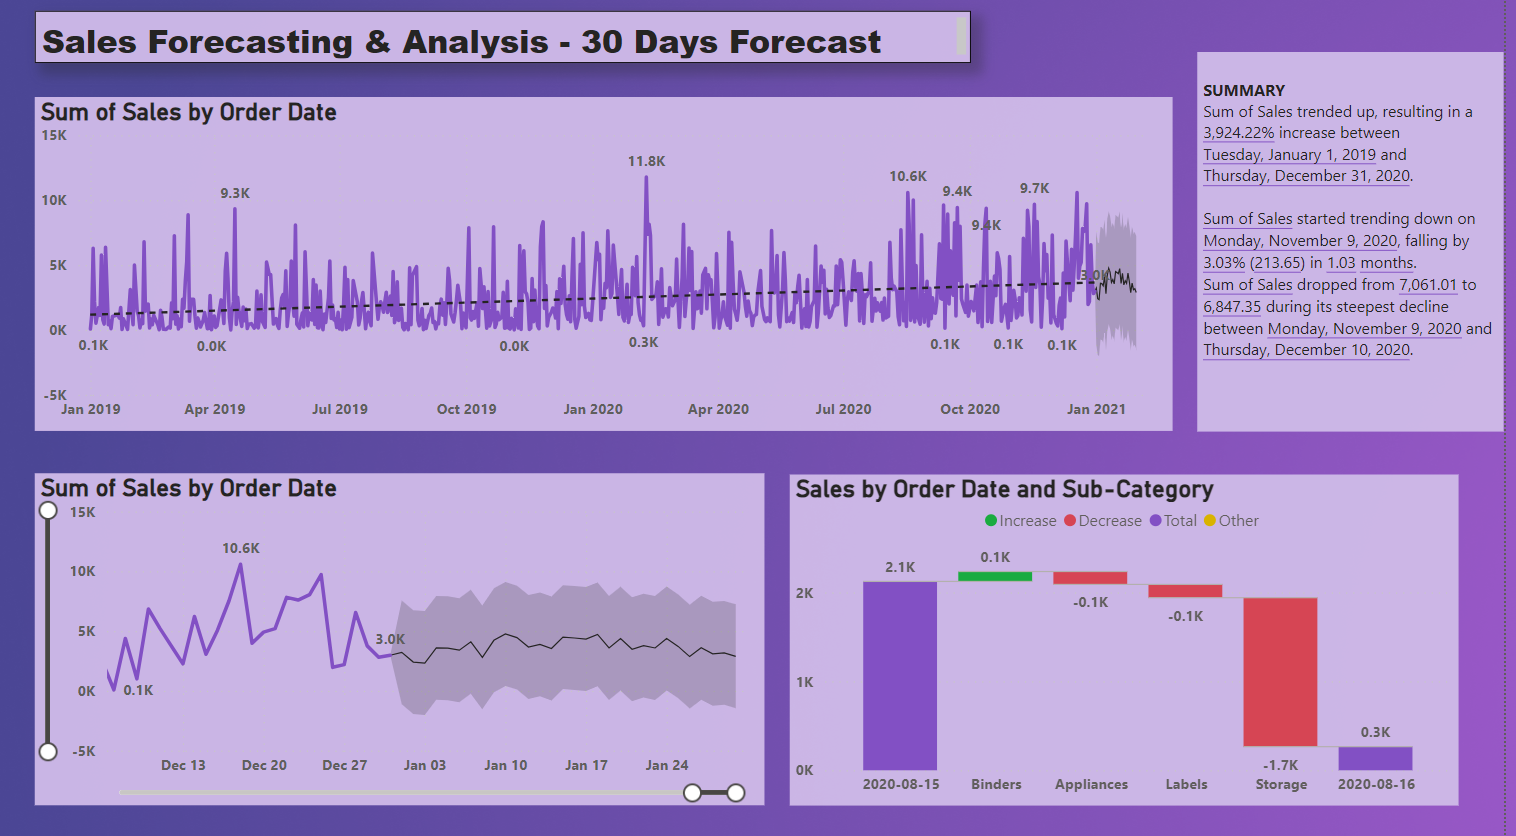

The page's visual inventory and layout, read from the dashboard file:
{"tool":"powerbi","page":{"name":"Sales Forecasting","canvas":[1280,720],"ordinal":2},"visuals":[{"type":"lineChart","fields":{"Y":["Sum(SuperStore_Sales_Dataset.Sales)"],"Category":["SuperStore_Sales_Dataset.Order Date"]},"box":[45.5,88.7,956.4,280.4],"z":0},{"type":"lineChart","fields":{"Y":["Sum(SuperStore_Sales_Dataset.Sales)"],"Category":["SuperStore_Sales_Dataset.Order Date"]},"box":[45.5,405.1,613.6,279.3],"z":1},{"type":"waterfallChart","title":"Sales by Order Date and Sub-Category","fields":{"Category":["SuperStore_Sales_Dataset.Order Date"],"Y":["Sum(SuperStore_Sales_Dataset.Sales)"],"Breakdown":["SuperStore_Sales_Dataset.Sub-Category"]},"box":[679.5,405.4,562.7,278.5],"z":1},{"type":"textbox","box":[1022.3,50.3,257.7,318.8],"z":2},{"type":"textbox","box":[45.5,15.6,787.4,44.3],"z":3}]}

Visuals, with their boxes in screenshot pixels (x1, y1, x2, y2), scaled from the page's 1280x720 canvas onto the 1516x836 screenshot:
lineChart - Sum(SuperStore_Sales_Dataset.Sales) x SuperStore_Sales_Dataset.Order Date: bbox=(54, 103, 1187, 429)
lineChart - Sum(SuperStore_Sales_Dataset.Sales) x SuperStore_Sales_Dataset.Order Date: bbox=(54, 470, 781, 795)
"Sales by Order Date and Sub-Category" waterfallChart: bbox=(805, 471, 1471, 794)
textbox: bbox=(1211, 58, 1515, 429)
textbox: bbox=(54, 18, 986, 70)
